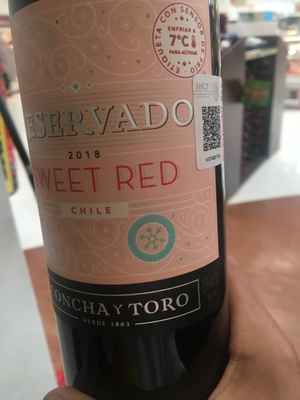reservado sweet red: (9, 4, 245, 365)
